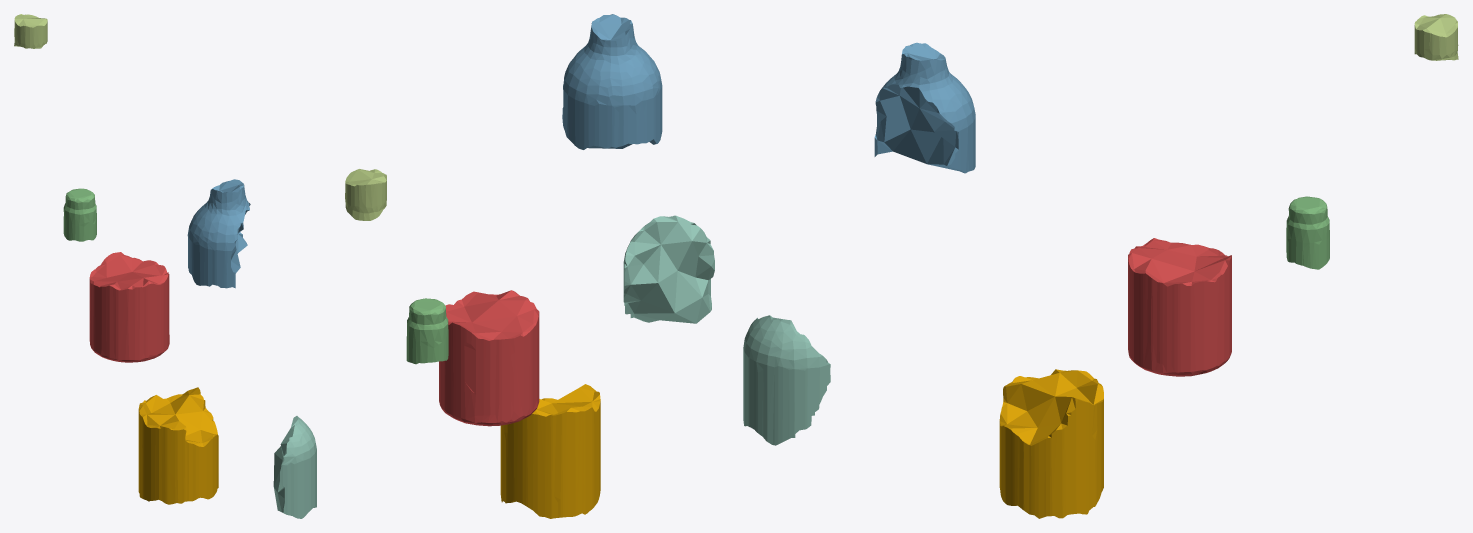
The model's file is fractured_7_6pcs_transformed.glb.
3 views of the same model, side by side, from view 1: azimuth 30°, elevation 25°; view 2: azimuth 150°, elevation 25°; view 3: azimuth 270°, elevation 25° (orthographic). The views are drawn at different scales.
Visible parts, largest first — view 1: piece_0.obj, piece_1.obj, piece_2.obj, piece_4.obj, piece_3.obj, piece_5.obj; view 2: piece_1.obj, piece_0.obj, piece_2.obj, piece_4.obj, piece_3.obj, piece_5.obj; view 3: piece_0.obj, piece_1.obj, piece_2.obj, piece_4.obj, piece_3.obj, piece_5.obj.
Part boxes in pixels (bbox=[...]): piece_0.obj: bbox=[138, 387, 218, 504]; piece_1.obj: bbox=[89, 252, 169, 362]; piece_2.obj: bbox=[187, 179, 250, 288]; piece_4.obj: bbox=[273, 416, 316, 518]; piece_3.obj: bbox=[63, 188, 96, 241]; piece_5.obj: bbox=[14, 14, 47, 48]; piece_1.obj: bbox=[439, 290, 539, 426]; piece_0.obj: bbox=[500, 384, 600, 518]; piece_2.obj: bbox=[562, 14, 662, 149]; piece_4.obj: bbox=[623, 215, 714, 323]; piece_3.obj: bbox=[406, 298, 448, 364]; piece_5.obj: bbox=[345, 169, 386, 220]; piece_0.obj: bbox=[999, 369, 1103, 518]; piece_1.obj: bbox=[1128, 238, 1231, 376]; piece_2.obj: bbox=[874, 42, 975, 173]; piece_4.obj: bbox=[743, 315, 830, 445]; piece_3.obj: bbox=[1286, 196, 1329, 269]; piece_5.obj: bbox=[1414, 14, 1458, 60].
Bounding box in the file's own units: 0.2438 × 1.23 × 1.67.
